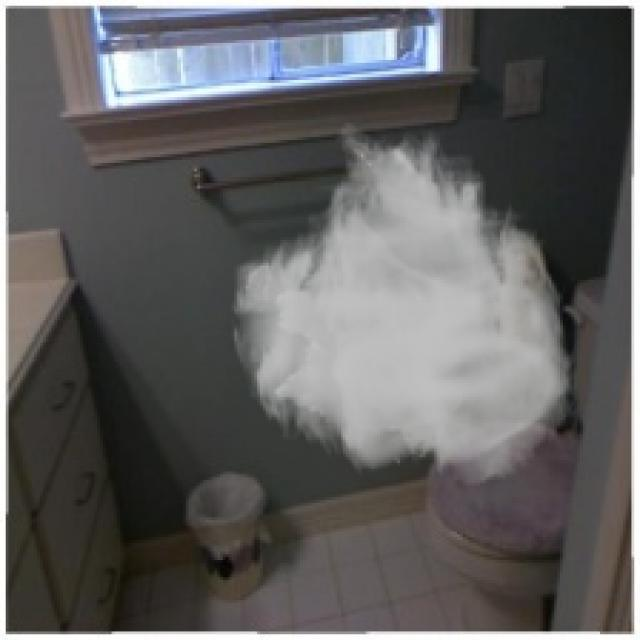Smoke: (228, 120, 580, 489)
